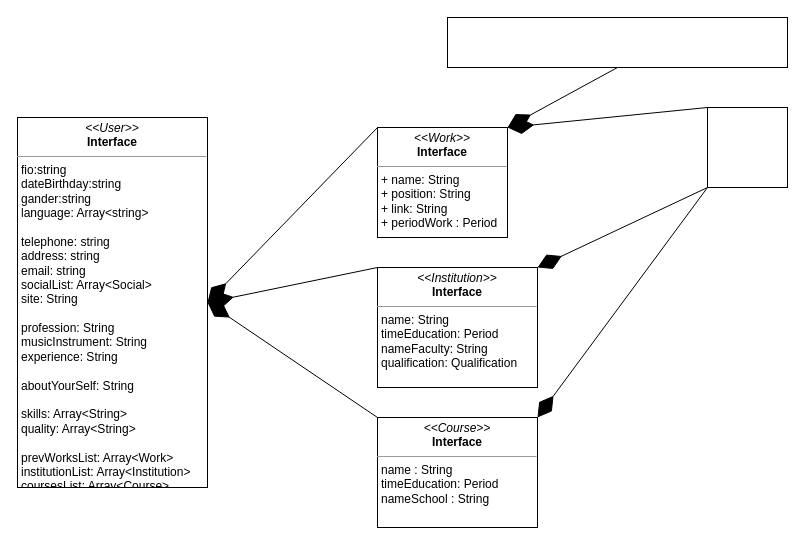
Some shapes in this 805 by 545 pixel diagram are drawn without their labels. Each missing label, with the centre of its shape:
"<<Period>> Interface start: String end: String" goes at [747,147].
"type Qualification = 'Бакалавр' | 'Магистр' | 'Специалитет'" goes at [617,42].
